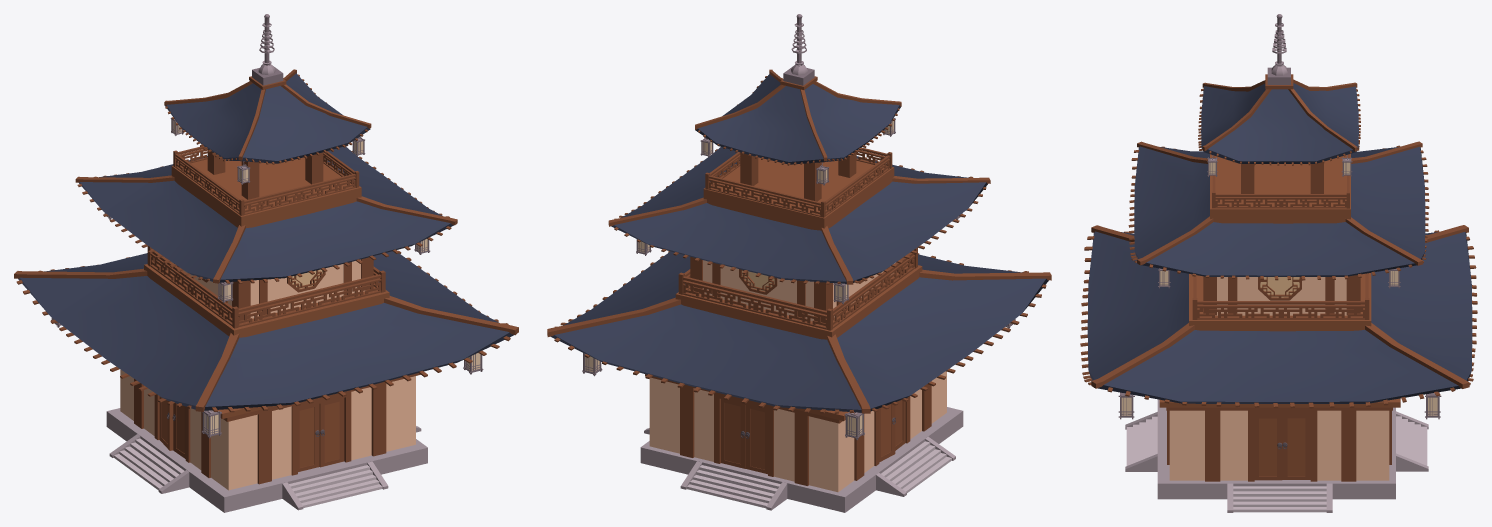
The model's file is houme09_1.fbx.
The picture shows the model from 3 angles, left to right: view 1: azimuth 30°, elevation 25°; view 2: azimuth 150°, elevation 25°; view 3: azimuth 270°, elevation 25°; orthographic projection.
Parts seen in each view (by area): view 1: houme9_1, fence_9_1_1, fence_9_2_1, on_the_roof_9_1_3, Lantern_9_1_1, Lantern_9_3_1; view 2: houme9_1, fence_9_1_1, fence_9_2_1, on_the_roof_9_1_3, Lantern_9_1_1, Lantern_9_3_1; view 3: houme9_1, fence_9_1_1, fence_9_2_1, on_the_roof_9_1_3, Lantern_9_1_1.
Boxes of the visible parts, x1,y1,x2,y2 form: houme9_1: [14, 69, 518, 512]; fence_9_1_1: [147, 246, 385, 328]; fence_9_2_1: [173, 146, 359, 215]; on_the_roof_9_1_3: [252, 14, 283, 85]; Lantern_9_1_1: [51, 318, 483, 438]; Lantern_9_3_1: [170, 117, 365, 184]; houme9_1: [547, 69, 1051, 512]; fence_9_1_1: [678, 247, 917, 330]; fence_9_2_1: [705, 147, 892, 217]; on_the_roof_9_1_3: [783, 14, 814, 85]; Lantern_9_1_1: [582, 319, 1015, 440]; Lantern_9_3_1: [700, 118, 895, 185]; houme9_1: [1080, 74, 1477, 512]; fence_9_1_1: [1192, 273, 1369, 319]; fence_9_2_1: [1212, 154, 1349, 208]; on_the_roof_9_1_3: [1267, 14, 1290, 84]; Lantern_9_1_1: [1118, 392, 1441, 419].
Size of the model in its own units: 1570 by 1903 by 1574.
